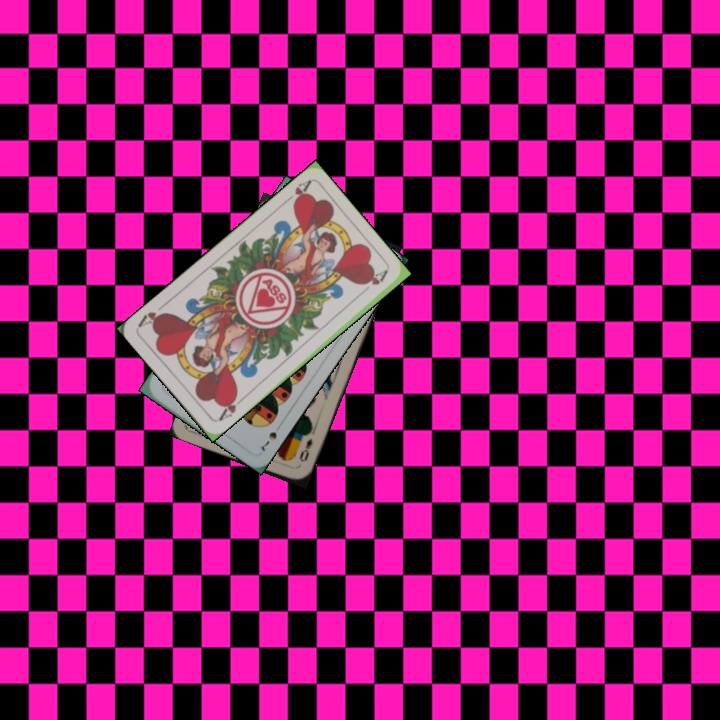EO: (295, 434, 315, 464)
HA: (278, 176, 313, 209), (214, 390, 240, 424)
S7: (256, 419, 284, 453)
